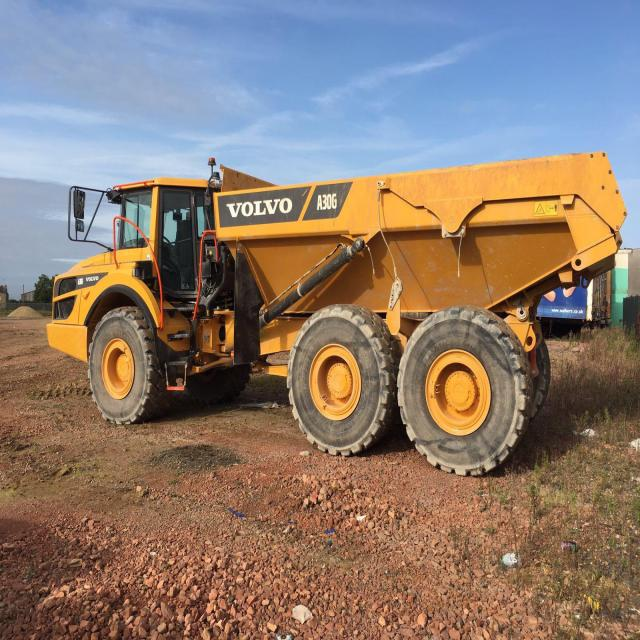dump_truck: (41, 154, 631, 477)
